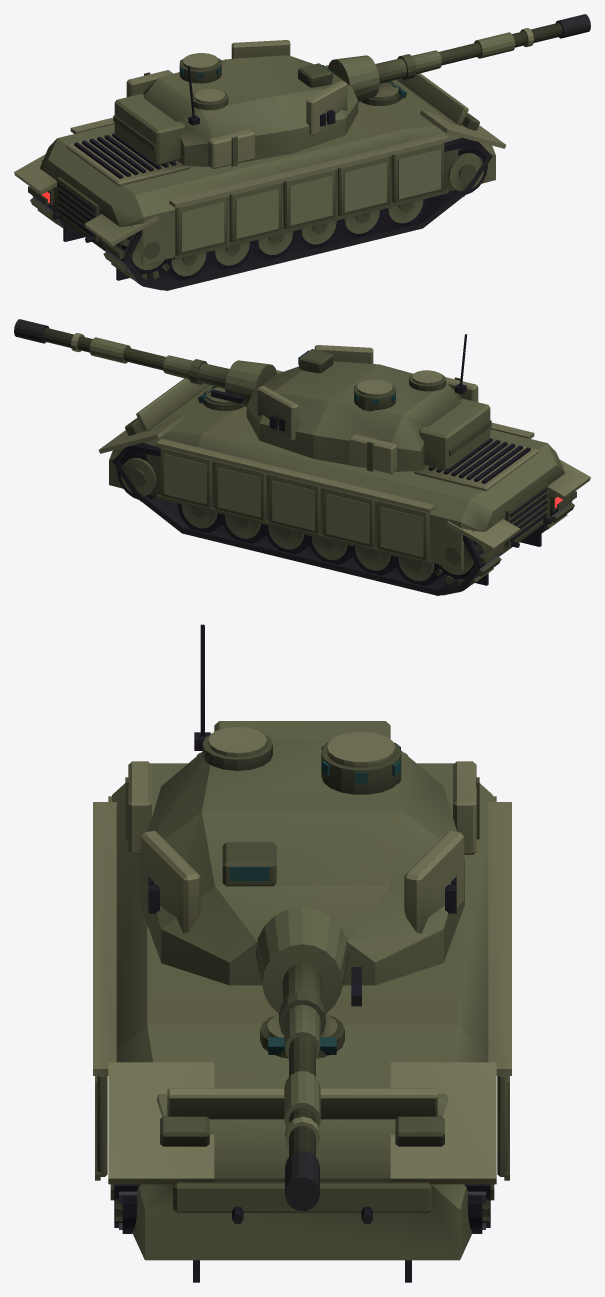
The model's file is veh.tank.glb.
3 renders of one model, top to bottom at view 1: azimuth 30°, elevation 25°; view 2: azimuth 150°, elevation 25°; view 3: azimuth 270°, elevation 25°, orthographic. The views are drawn at different scales.
Visible parts, largest first — view 1: body, turret, gun; view 2: body, turret, gun; view 3: body, turret, gun.
Part boxes in pixels (x1,y1,x2,y2): body: (14, 65, 506, 290); turret: (113, 40, 358, 169); gun: (328, 14, 590, 101); body: (98, 370, 590, 595); turret: (246, 334, 491, 474); gun: (14, 319, 277, 406); body: (93, 752, 511, 1282); turret: (125, 624, 479, 985); gun: (255, 907, 361, 1210).
Bounding box in the file's own units: 9.67 × 3.51 × 3.35.
